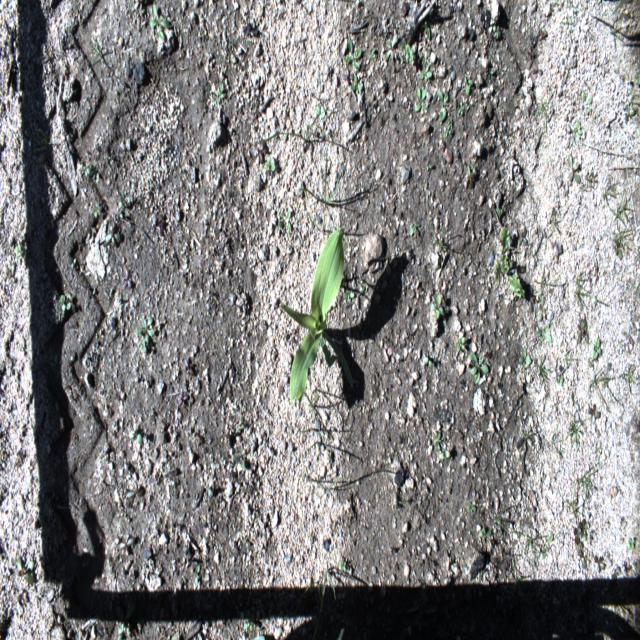crop: (279, 224, 354, 406)
weed: (298, 146, 342, 233), (296, 569, 336, 638), (258, 115, 317, 144), (588, 362, 616, 409), (578, 461, 602, 512), (508, 530, 545, 559), (431, 226, 452, 277), (494, 225, 512, 282), (562, 481, 584, 523), (575, 286, 609, 312), (565, 416, 591, 449), (312, 476, 349, 498), (528, 353, 550, 387), (150, 3, 169, 41), (136, 315, 154, 355), (617, 364, 638, 395), (469, 351, 488, 384), (550, 422, 565, 461), (343, 38, 362, 68), (16, 556, 34, 584), (33, 127, 53, 152), (496, 504, 516, 528), (613, 594, 629, 624), (613, 224, 631, 250), (384, 31, 399, 61), (566, 154, 581, 184), (509, 274, 526, 300), (575, 268, 592, 294), (277, 209, 292, 238), (90, 38, 104, 68), (618, 193, 632, 223), (436, 89, 448, 123), (602, 178, 616, 206), (536, 322, 553, 344), (609, 202, 625, 225), (518, 346, 532, 372), (576, 318, 589, 346), (431, 291, 443, 320), (232, 445, 245, 471), (414, 86, 427, 112), (105, 224, 120, 246), (14, 240, 26, 267), (542, 533, 553, 562), (590, 336, 602, 362), (213, 82, 226, 106), (577, 517, 591, 539), (579, 92, 592, 115), (257, 138, 268, 165), (465, 164, 476, 190), (118, 532, 134, 549), (117, 622, 132, 640), (572, 118, 584, 140), (59, 294, 72, 314), (588, 403, 601, 423), (350, 75, 362, 96), (419, 63, 432, 82), (192, 562, 202, 586), (574, 534, 587, 552), (623, 104, 636, 122), (128, 482, 144, 496), (116, 193, 130, 209), (538, 295, 546, 323), (264, 155, 276, 173), (479, 528, 491, 546), (128, 430, 143, 444), (342, 67, 354, 84), (578, 548, 587, 570), (342, 288, 356, 302), (6, 262, 14, 286), (463, 75, 472, 96), (410, 221, 421, 238), (236, 414, 245, 434), (492, 24, 502, 42), (432, 431, 441, 451), (466, 499, 477, 515), (594, 555, 605, 571), (456, 334, 465, 353), (405, 44, 414, 62), (398, 37, 406, 57), (424, 354, 432, 370), (94, 202, 102, 218), (316, 105, 325, 119), (368, 46, 376, 61), (445, 123, 453, 138), (627, 536, 635, 550), (556, 372, 563, 388), (458, 100, 465, 116), (440, 450, 450, 461), (336, 627, 345, 639), (338, 561, 346, 573), (71, 256, 77, 270), (84, 166, 90, 177), (361, 282, 366, 294), (426, 162, 432, 172), (253, 635, 265, 639), (238, 636, 249, 640)
